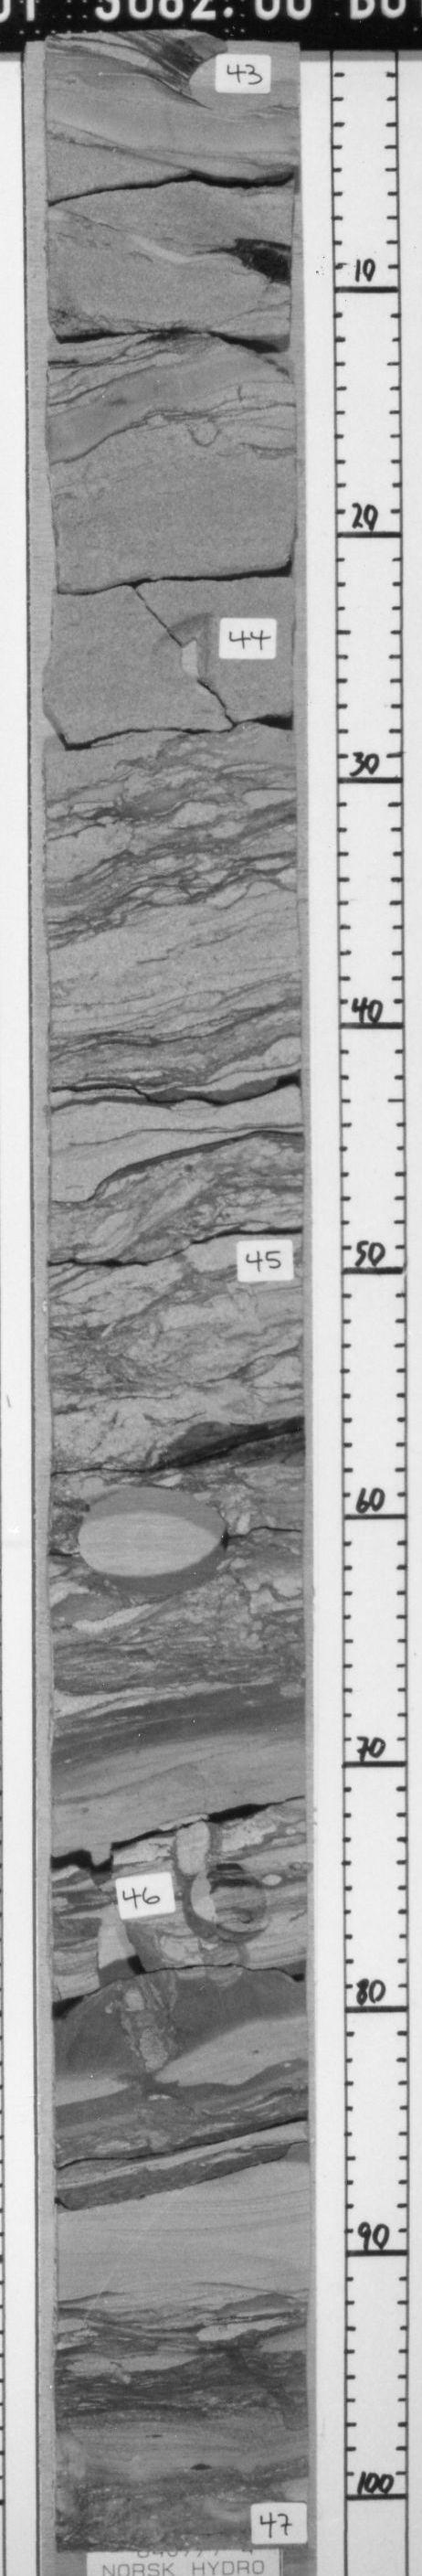hplug: (141, 34, 287, 123), (176, 1855, 274, 1950), (143, 609, 222, 700)
scal: (61, 1483, 248, 1605)
vplug: (85, 1889, 158, 1994)
